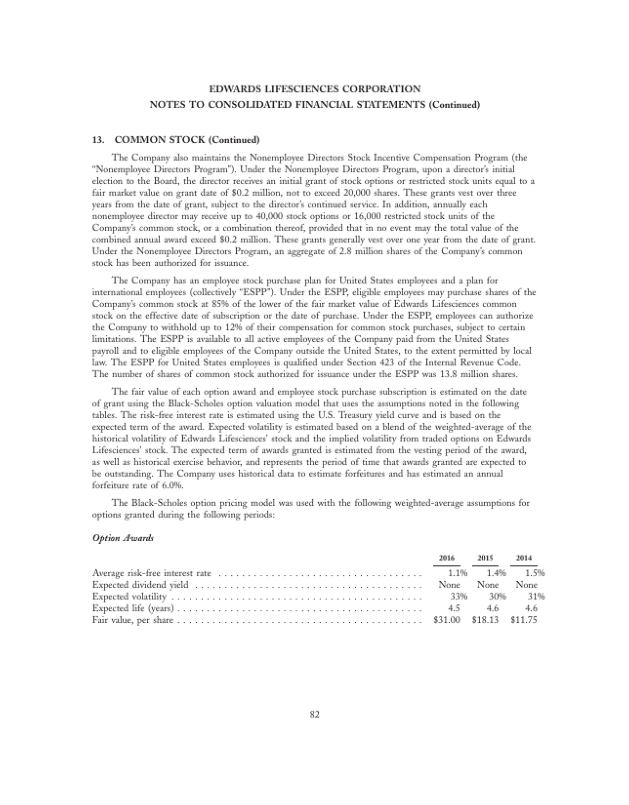table: (428, 553, 465, 632), (512, 555, 548, 628), (471, 553, 505, 624)
